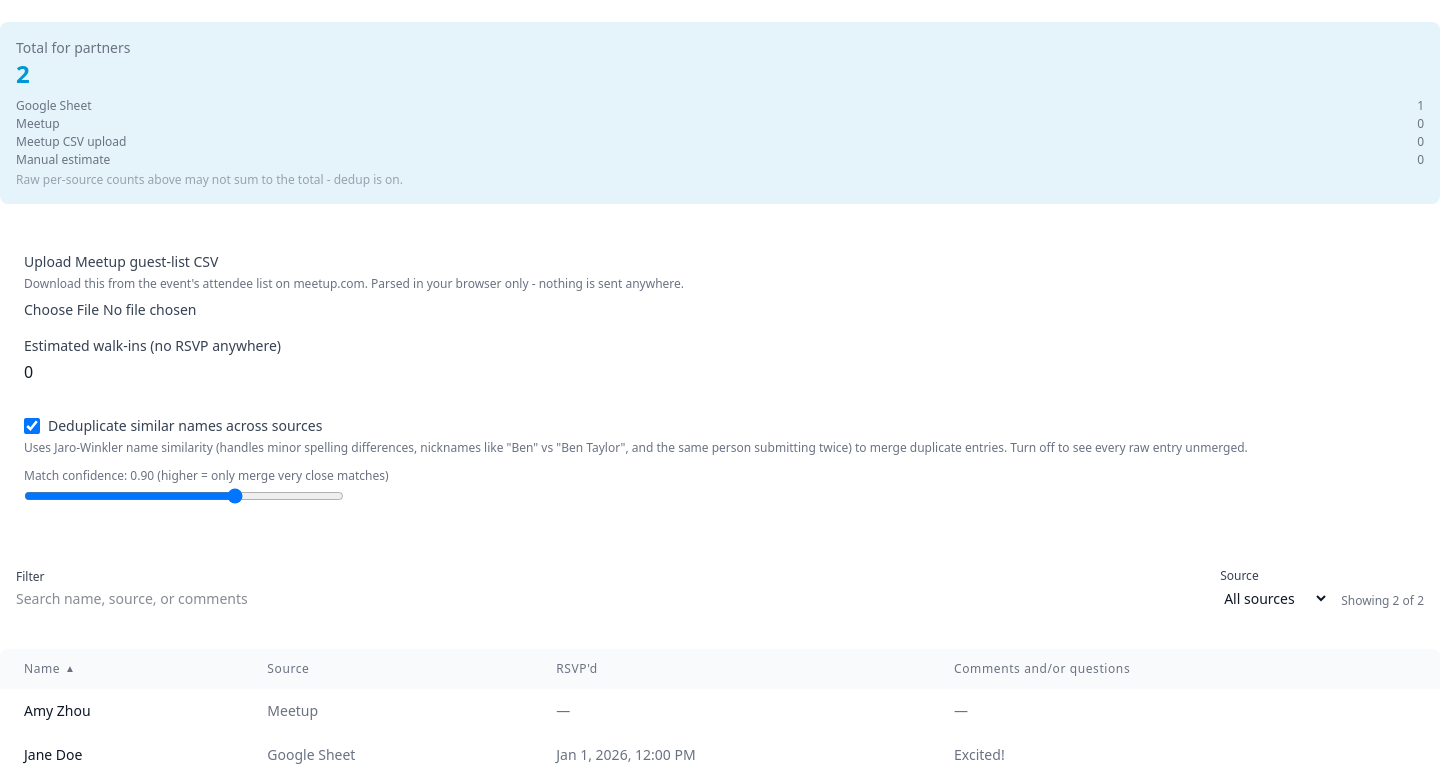
RsvpReportPage - dedupe and table controls › excludes rows from a different source when a specific source is selected
(page scrolled)
Select "Google Sheet" in the dropdown labelled "Source": (1275, 598) [1220, 588, 1329, 609]
(page scrolled)
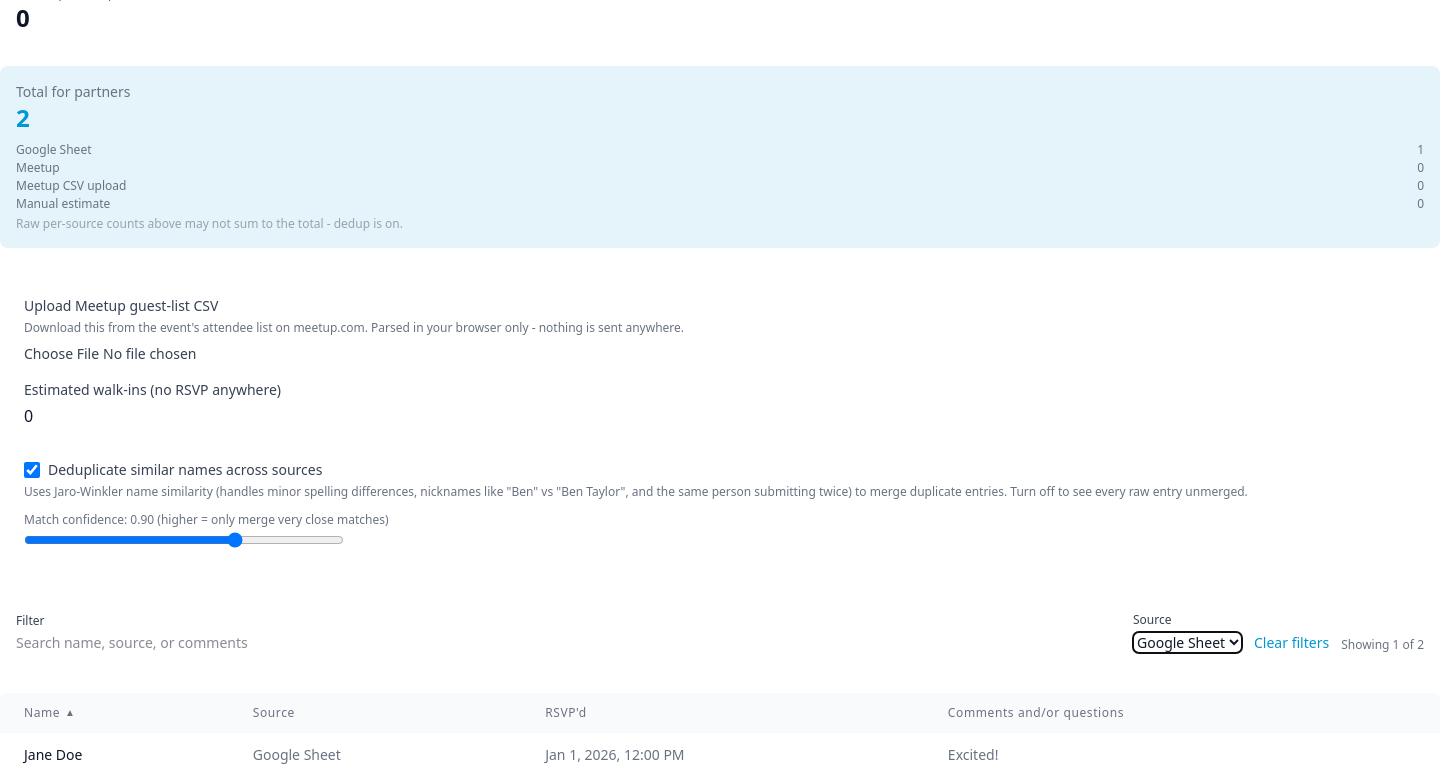
Expected: the text "Jane Doe" is shown, [0, 733, 229, 776]
Now the text "Amy Zhou" is gone
